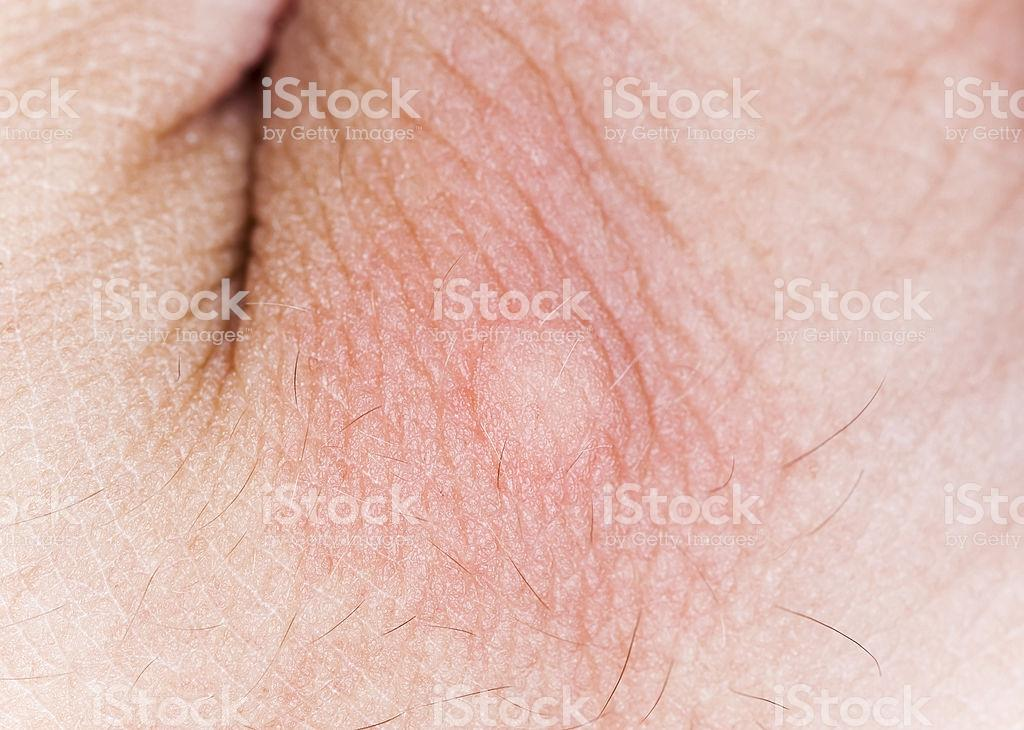Reupload: (469, 316, 632, 512)
